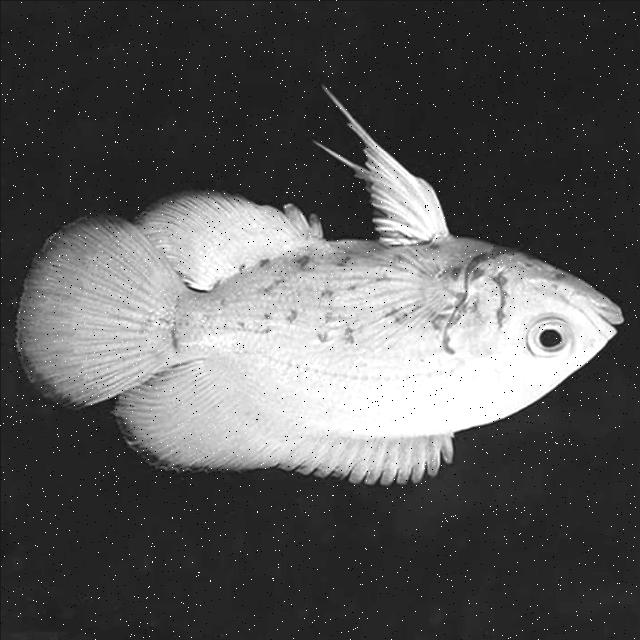Mulut: (590, 276, 634, 360)
Sirip Anal: (128, 186, 314, 282)
Sirip Dada: (328, 235, 450, 358)
Sirip Ekor: (10, 206, 178, 414)
Sirip Perut: (294, 71, 472, 252)
Sirip Punggung: (105, 357, 457, 497)
